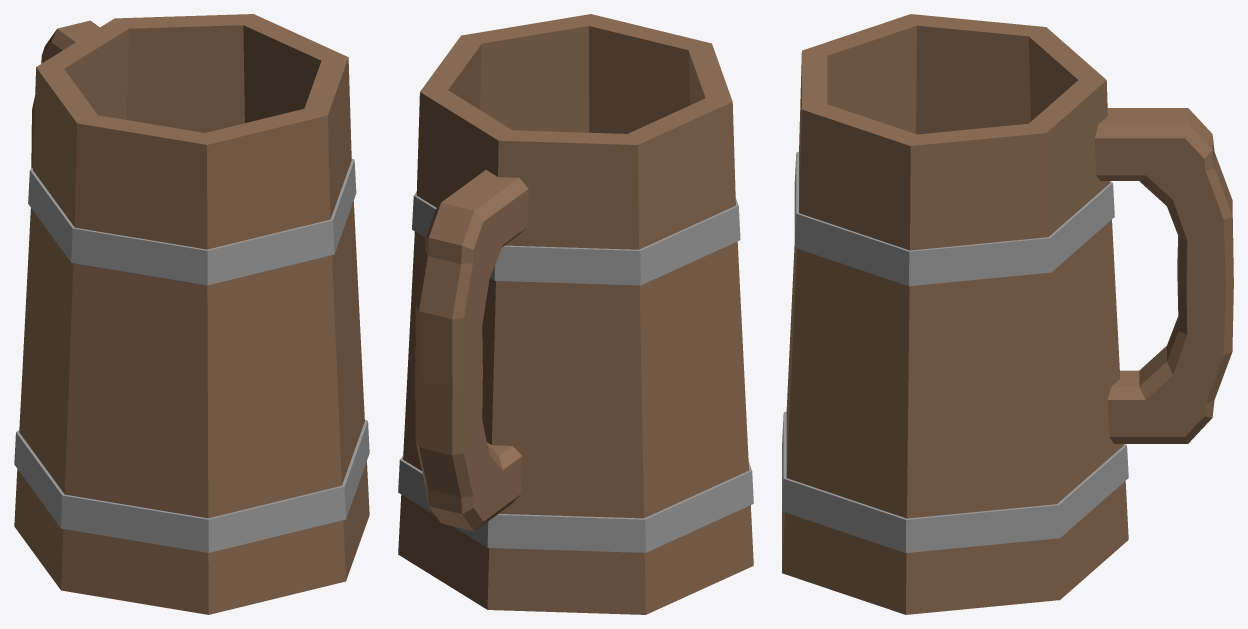
File: WoodenCup.fbx
3 renders of one model, left to right at view 1: azimuth 30°, elevation 25°; view 2: azimuth 150°, elevation 25°; view 3: azimuth 270°, elevation 25°, orthographic.
Parts seen in each view (by area): view 1: Cylinder.001; view 2: Cylinder.001; view 3: Cylinder.001.
Boxes of the visible parts, bbox=[...] form: Cylinder.001: bbox=[14, 14, 369, 614]; Cylinder.001: bbox=[398, 14, 753, 614]; Cylinder.001: bbox=[782, 14, 1233, 614].
Size of the model in its own units: 0.195 by 0.2782 by 0.2478.
